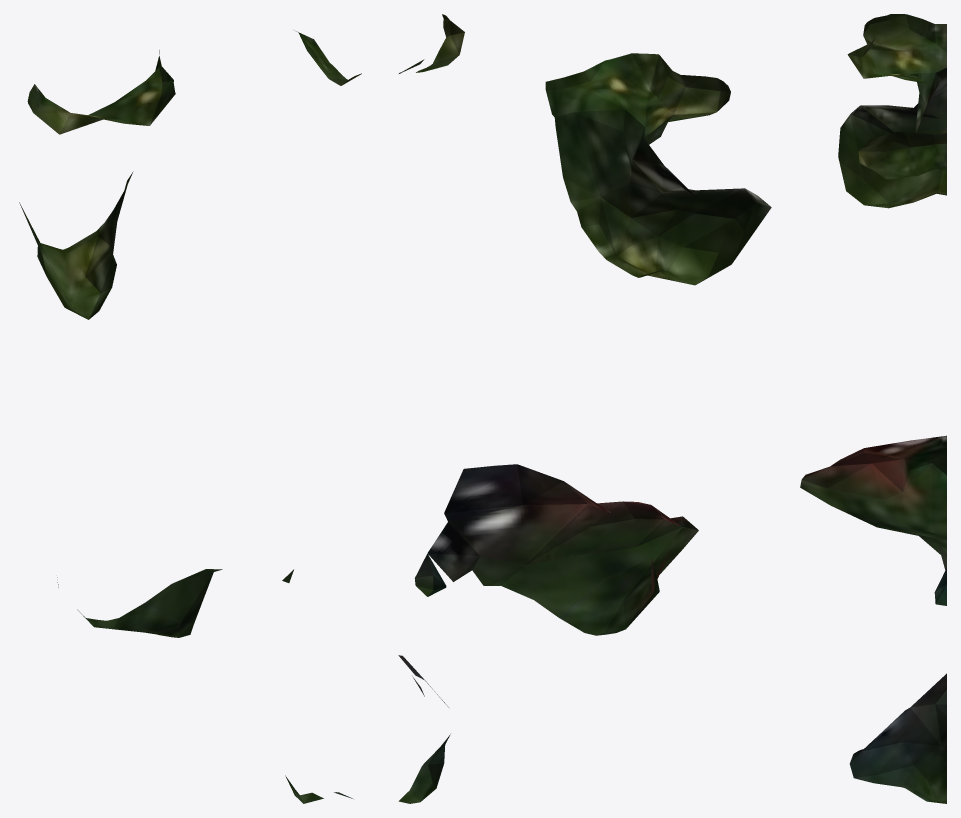
The picture shows the model from 3 angles, left to right: view 1: azimuth 30°, elevation 25°; view 2: azimuth 150°, elevation 25°; view 3: azimuth 270°, elevation 25°; orthographic projection. The views are drawn at different scales.
Bounding box in the file's own units: 1.17 × 2.66 × 0.5324.
Materials: 1 (1 with a texture image).
